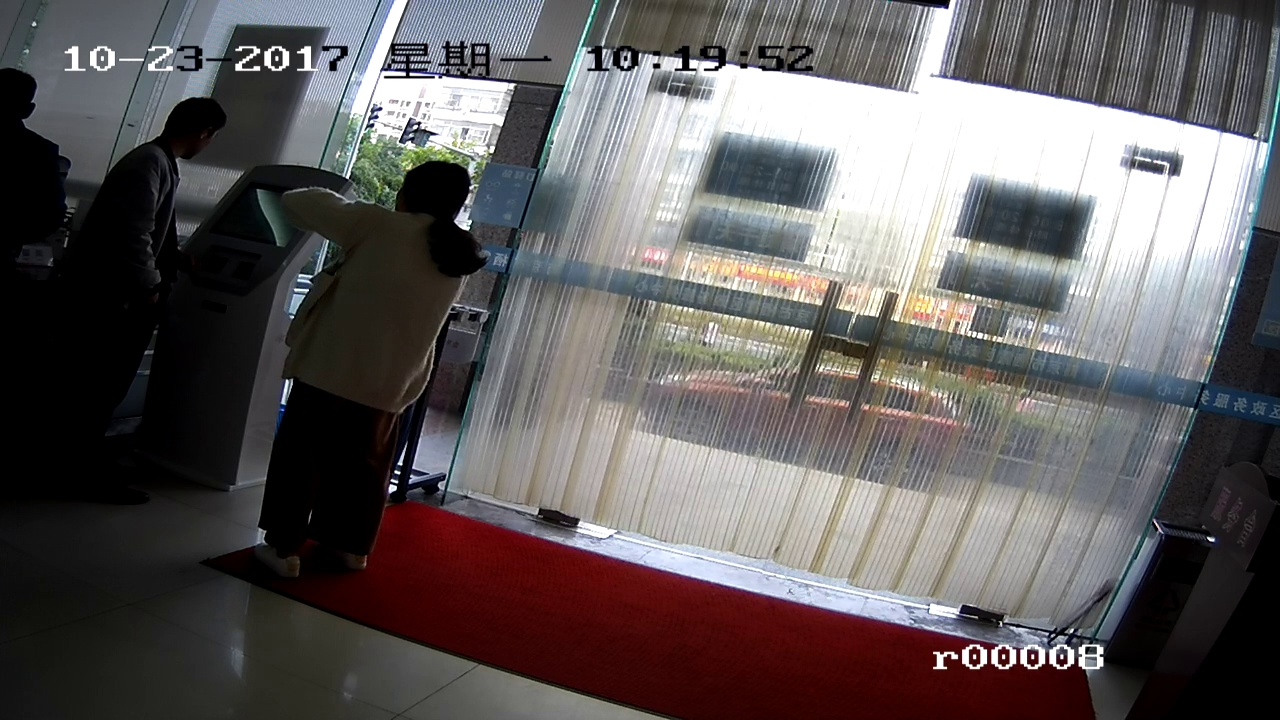person: (302, 161, 451, 578), (67, 95, 207, 468)
